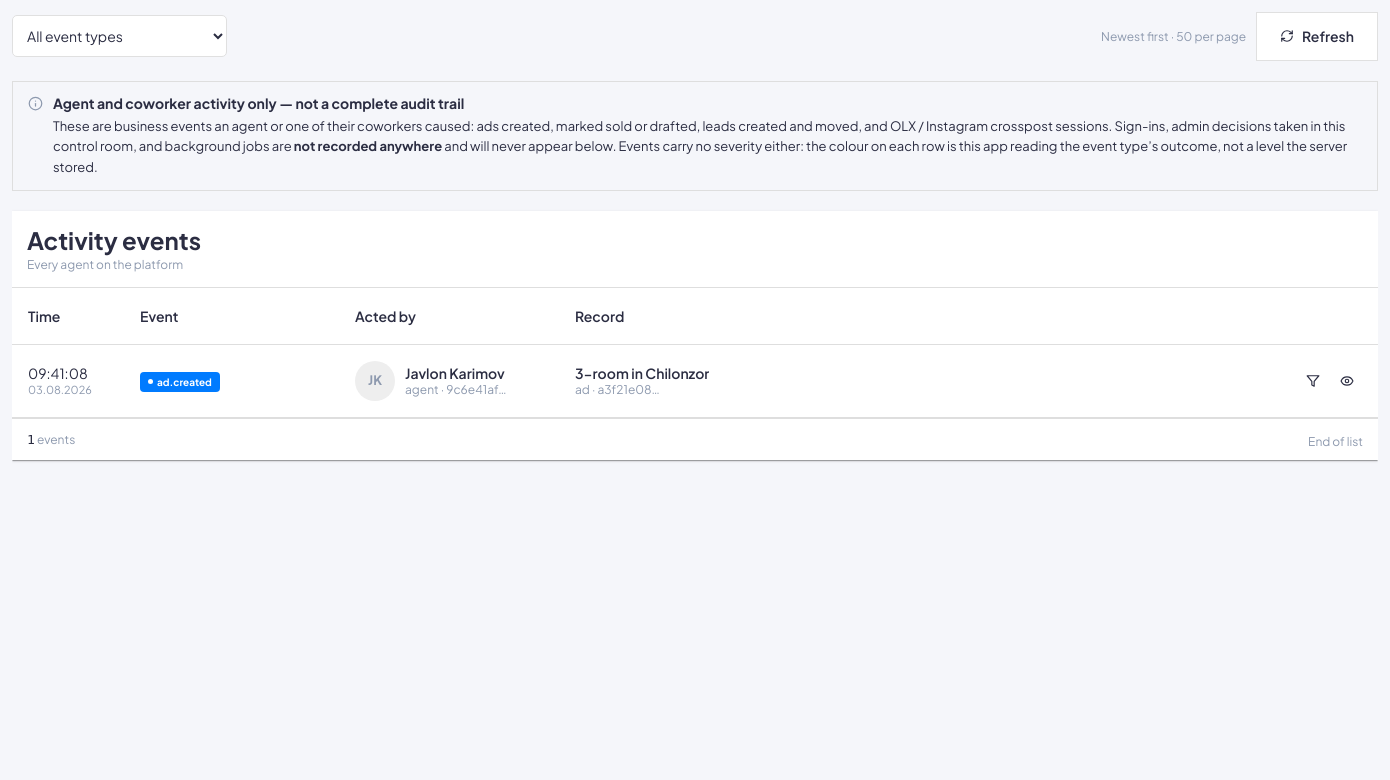
Test: AuditScreen › says so when an event carries no meta, rather than showing an empty drawer
This screenshot has width=1390, height=780.
Click the button named "Inspect event details": click(1347, 381) [1332,370,1362,392]
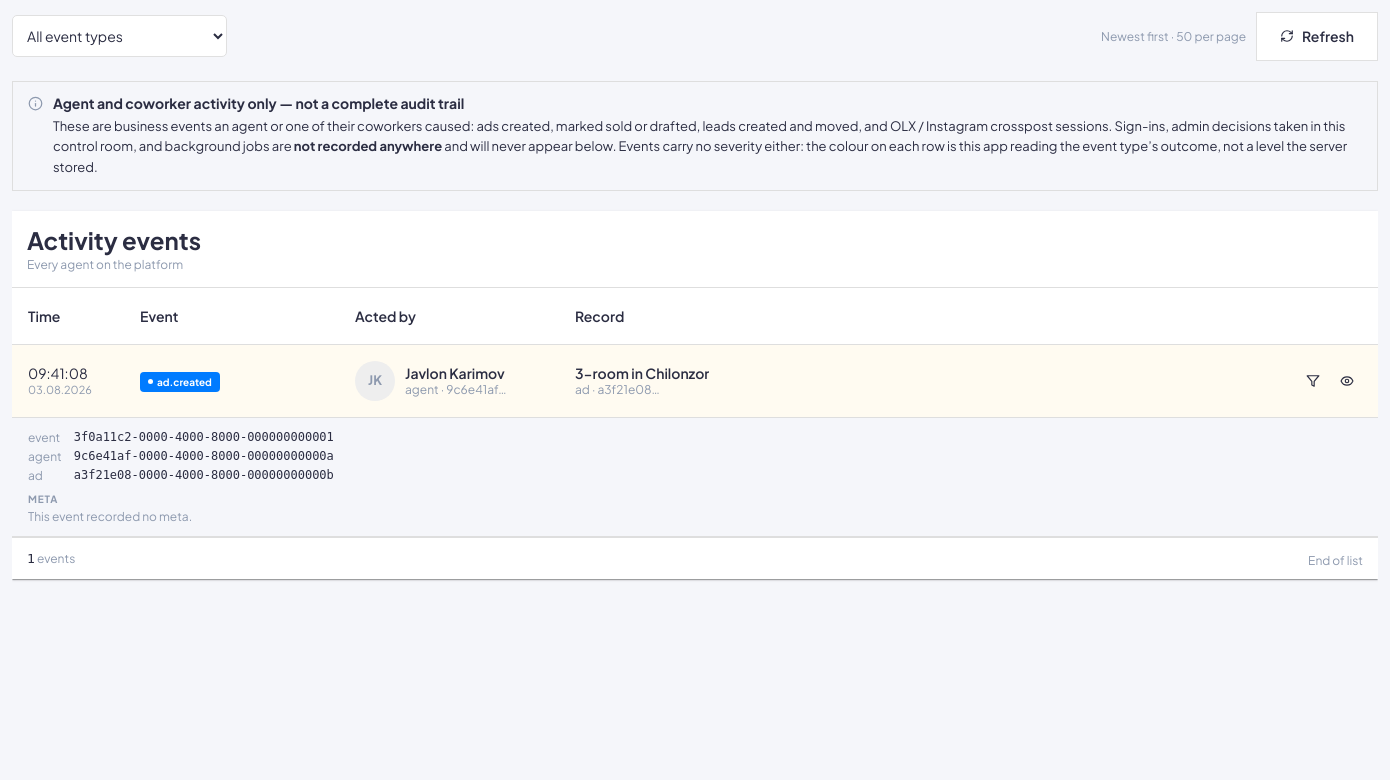
Expected: the text "This event recorded no meta." is shown, [28,509,192,524]
